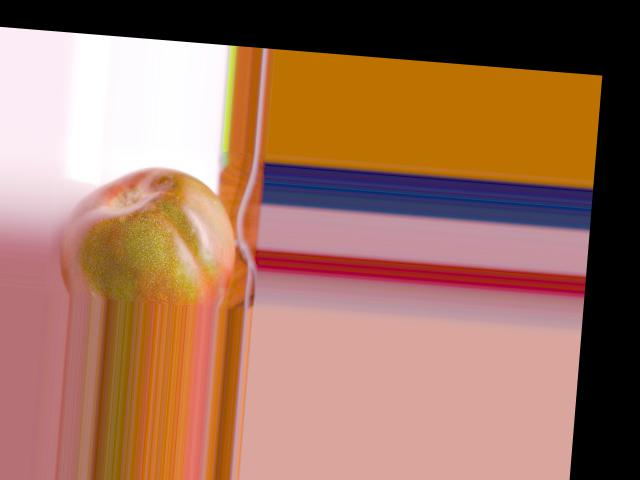tomato: (57, 160, 242, 309)
